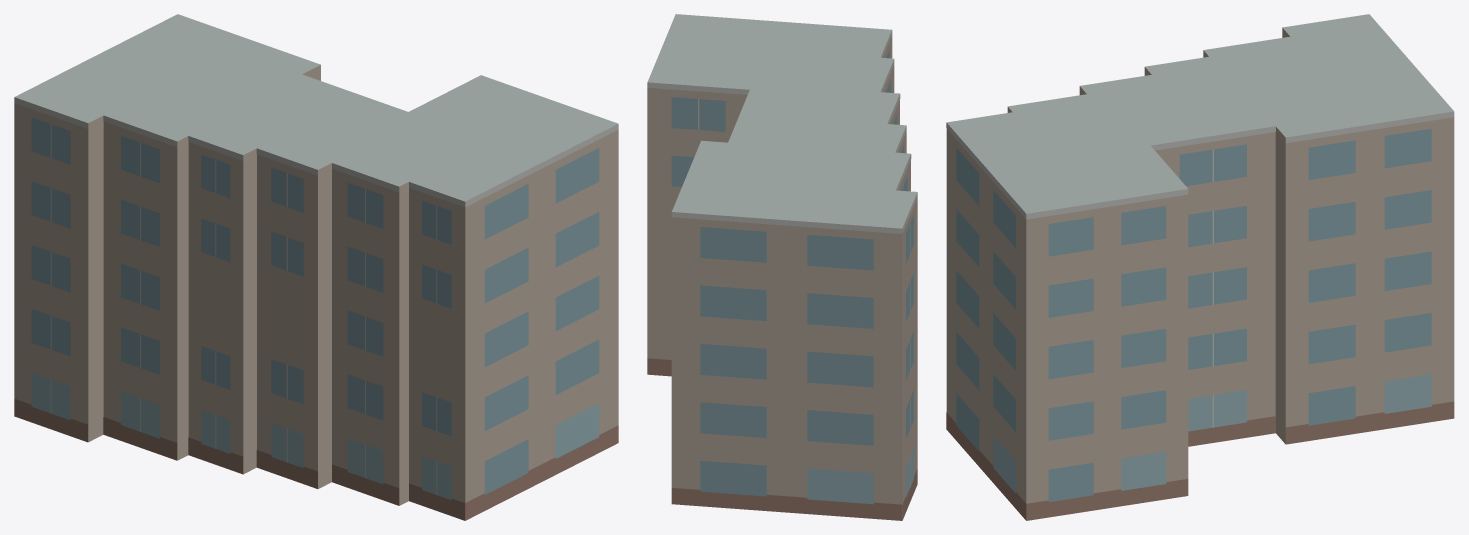
Rendered from survey-upis-32710551.glb.
The picture shows the model from 3 angles, left to right: view 1: azimuth 30°, elevation 25°; view 2: azimuth 150°, elevation 25°; view 3: azimuth 270°, elevation 25°; orthographic projection. The views are drawn at different scales.
Visible parts, largest first — view 1: survey-upis-32710551.tmp; view 2: survey-upis-32710551.tmp; view 3: survey-upis-32710551.tmp.
Part boxes in pixels (<box>): survey-upis-32710551.tmp: <box>14,14,618,520</box>; survey-upis-32710551.tmp: <box>647,14,917,520</box>; survey-upis-32710551.tmp: <box>946,14,1454,520</box>.
Bounding box in the file's own units: 18.44 × 13.2 × 19.8.
